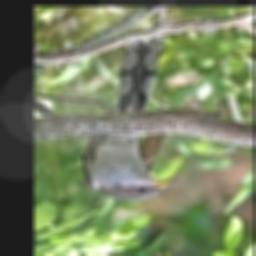Cuckoo: (82, 37, 179, 203)
